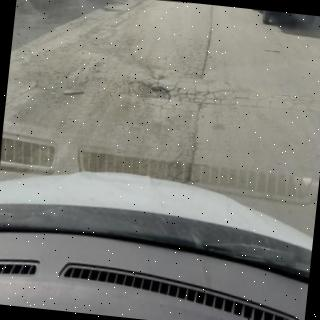pothole: (79, 76, 171, 99)
